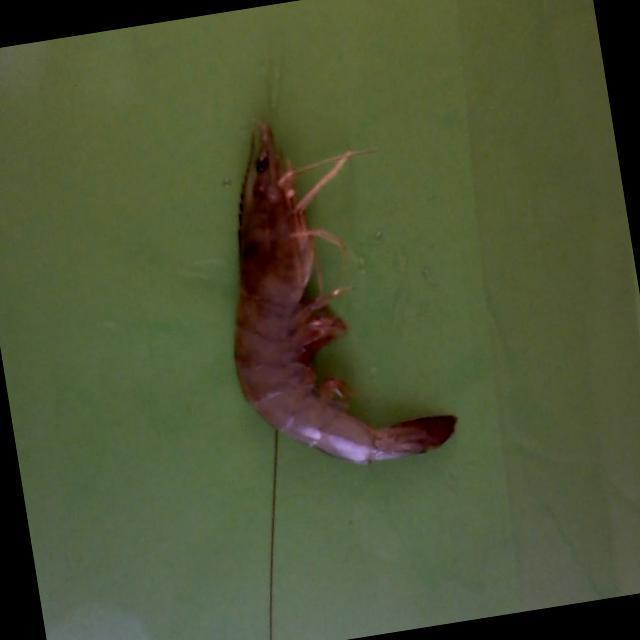shrimp: (235, 122, 455, 463)
